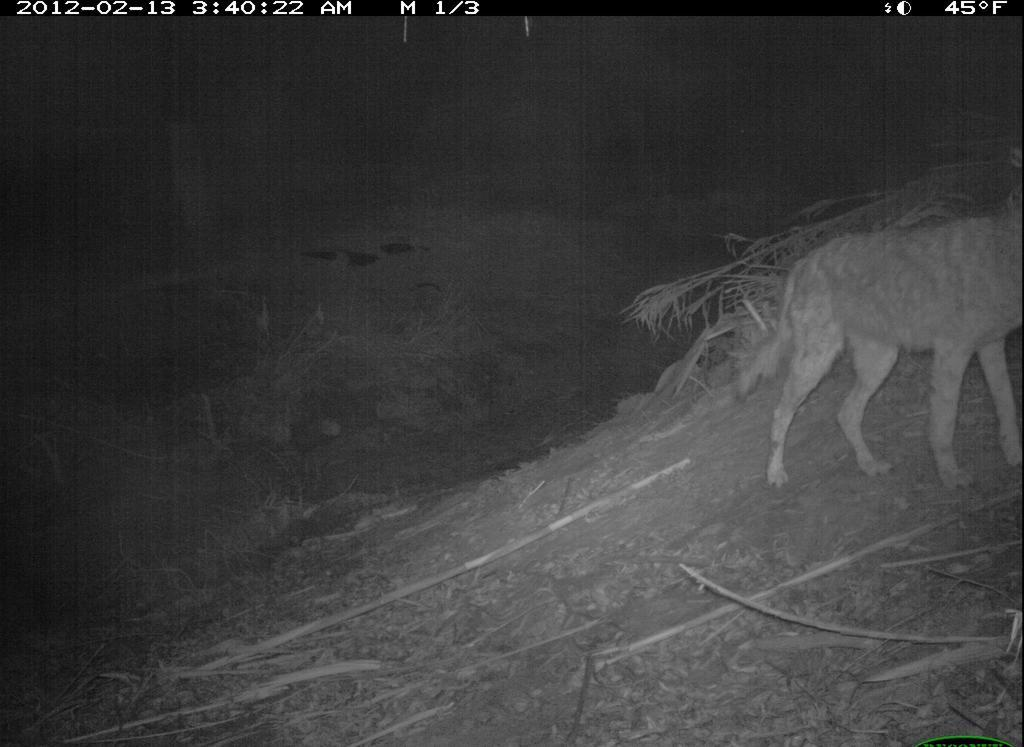coyote: (734, 201, 1023, 496)
